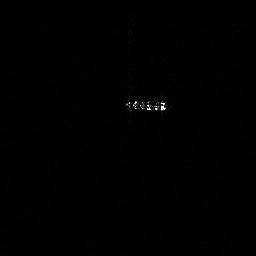ship: (124, 95, 168, 114)
